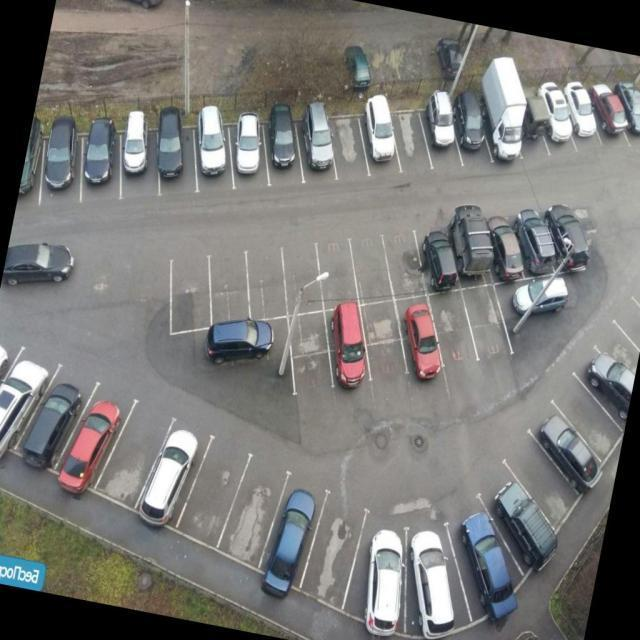car: (429, 494, 542, 622), (465, 463, 572, 578), (127, 407, 220, 535), (248, 468, 338, 600), (45, 376, 140, 500), (394, 510, 484, 640), (332, 506, 424, 630), (8, 362, 104, 478), (511, 402, 616, 488), (0, 338, 65, 466), (318, 304, 382, 397), (476, 208, 545, 290), (570, 340, 640, 418), (393, 300, 460, 380), (454, 286, 520, 366), (538, 201, 608, 275), (407, 215, 470, 293), (438, 214, 502, 286), (512, 204, 572, 278), (530, 89, 586, 155), (558, 88, 612, 154), (448, 102, 500, 170), (182, 130, 244, 187), (482, 102, 534, 167), (36, 140, 92, 200), (588, 80, 640, 144), (257, 124, 312, 184), (218, 124, 276, 180), (412, 113, 472, 167), (286, 125, 346, 179), (351, 116, 406, 173), (75, 138, 130, 194), (510, 97, 560, 157), (150, 132, 205, 186), (118, 132, 166, 185), (18, 138, 50, 205), (608, 80, 640, 144), (0, 336, 14, 444)
free: (207, 448, 297, 576), (89, 392, 183, 509), (174, 432, 256, 550), (297, 492, 368, 608), (500, 434, 588, 527), (542, 374, 632, 454), (200, 240, 266, 334), (418, 288, 488, 371), (350, 298, 417, 384), (270, 235, 332, 322), (240, 235, 297, 326), (162, 256, 226, 334), (346, 222, 404, 308), (280, 311, 336, 397), (310, 230, 366, 314), (378, 230, 434, 300), (379, 111, 439, 169), (316, 120, 376, 176)
